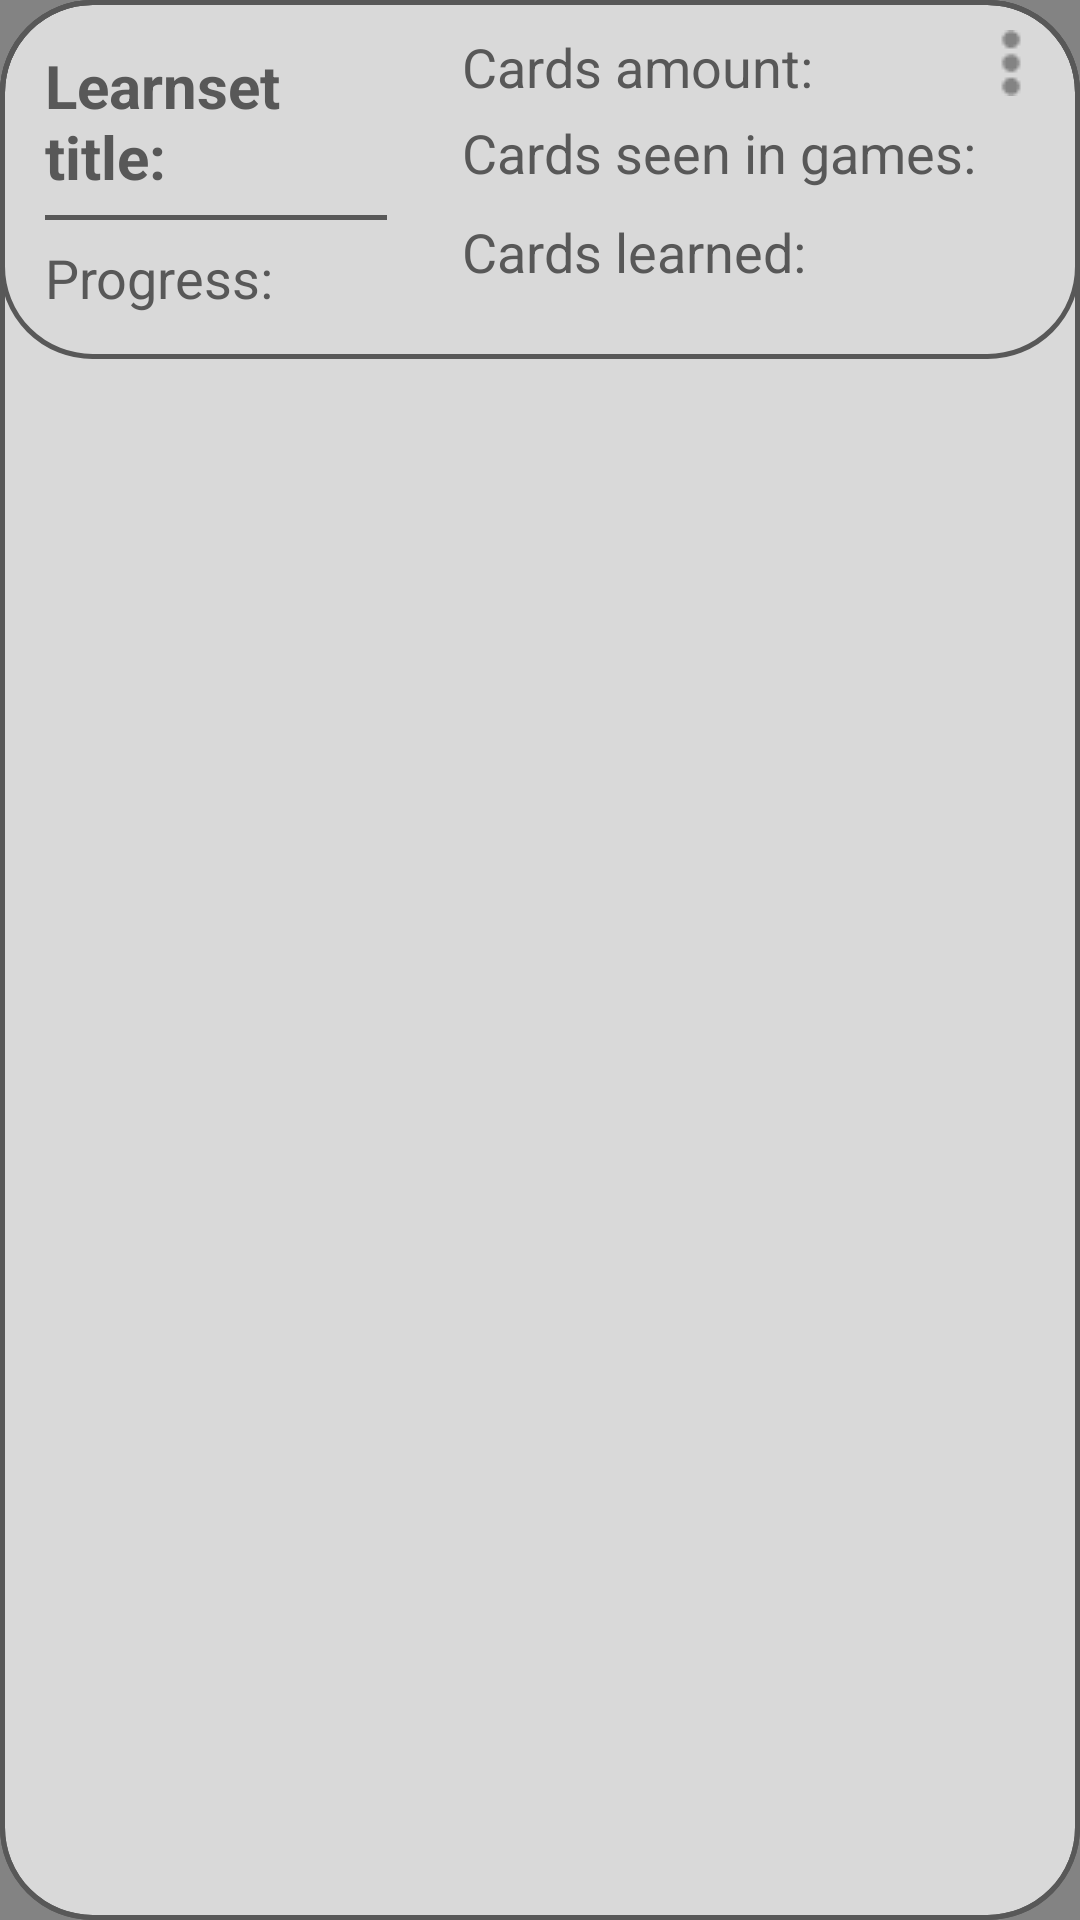

Screen size 1080 x 1920. Icon name, then its box in pixels as (x1=x1, y1=y1, x2=x2, y2=y2):
options menu: (x1=1002, y1=30, x2=1020, y2=96)
